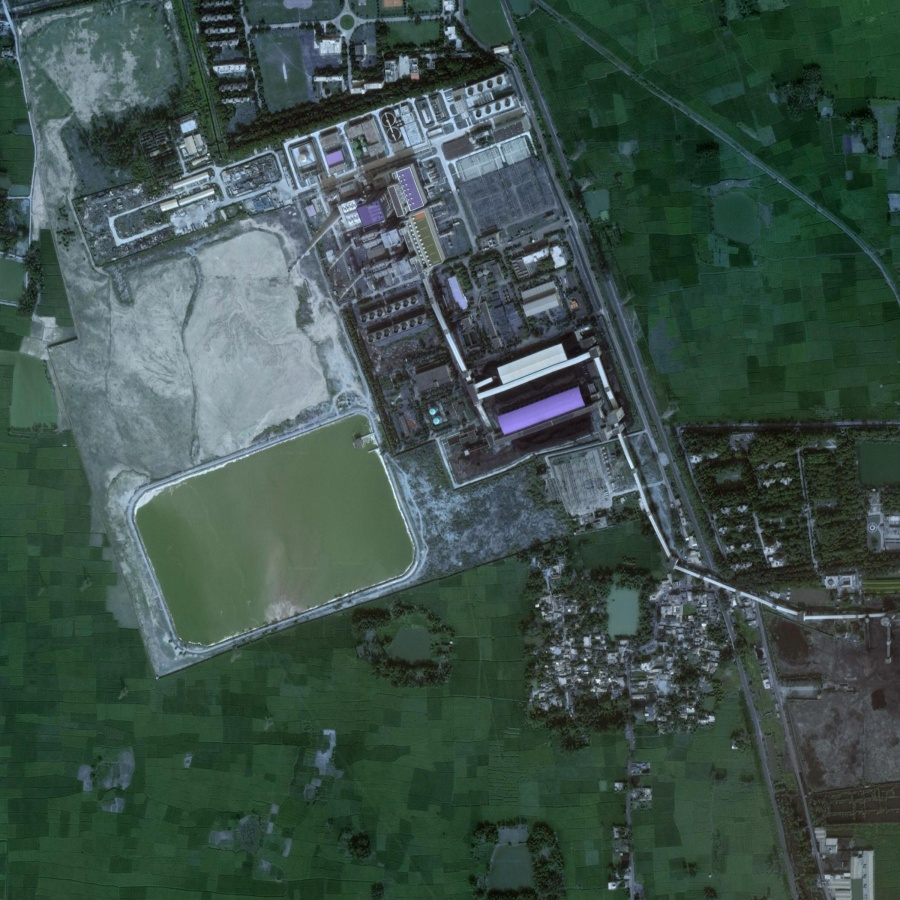PowerPlant: (69, 59, 685, 639)
